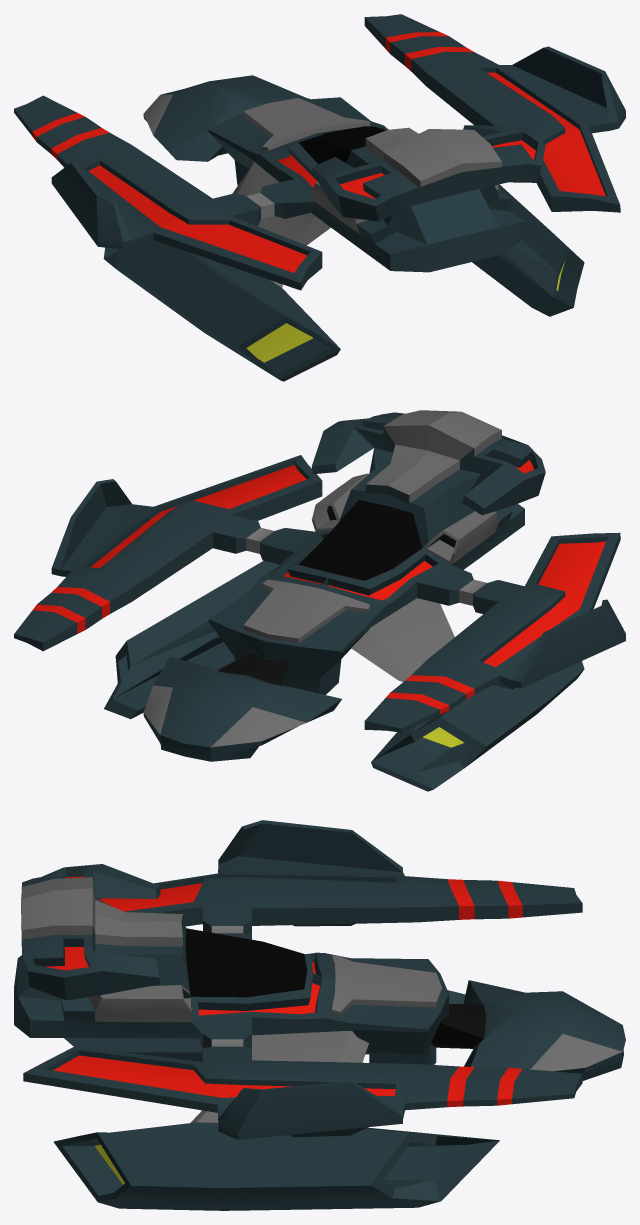
The model's file is Nave Chefe.fbx.
3 views of the same model, one above another, from view 1: azimuth 30°, elevation 25°; view 2: azimuth 150°, elevation 25°; view 3: azimuth 270°, elevation 25° (orthographic). The views are drawn at different scales.
Parts seen in each view (by area): view 1: Cube; view 2: Cube; view 3: Cube.
Boxes of the visible parts, x1=… form: Cube: x1=14, y1=14, x2=625, y2=381; Cube: x1=14, y1=410, x2=625, y2=791; Cube: x1=14, y1=820, x2=625, y2=1210.
Bounding box in the file's own units: 1044 × 435 × 963.
